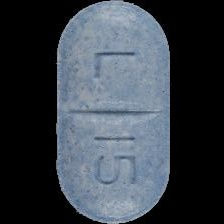0378-1823: (0, 0, 224, 224)
